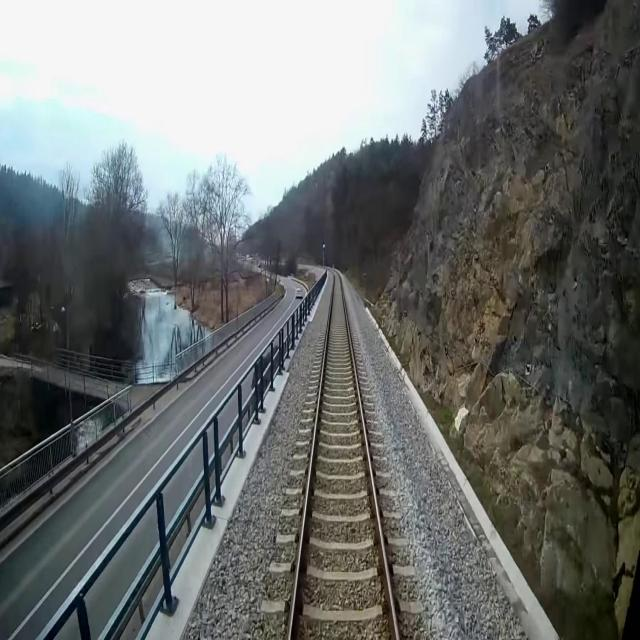rail-track: (292, 271, 395, 639)
